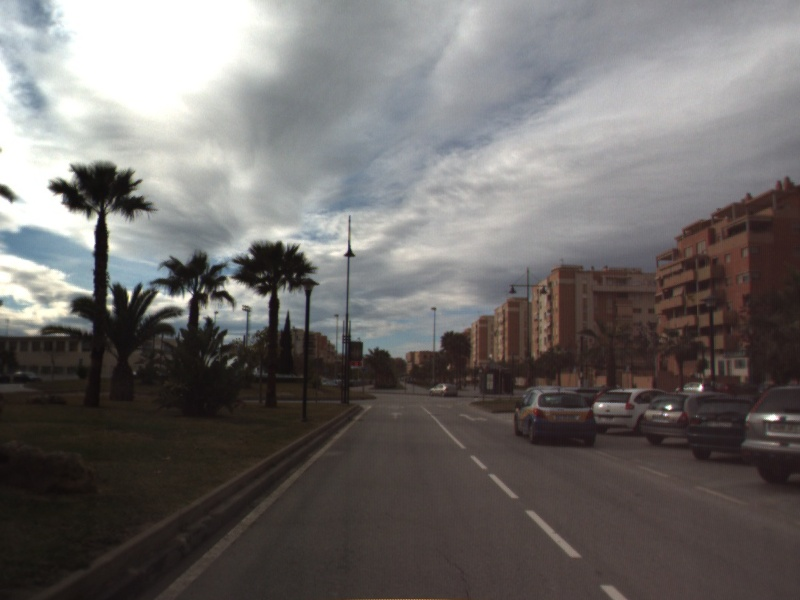STRAIGHT: (388, 410, 405, 420)
STRAIGHT_RIGHT: (457, 411, 490, 423)
